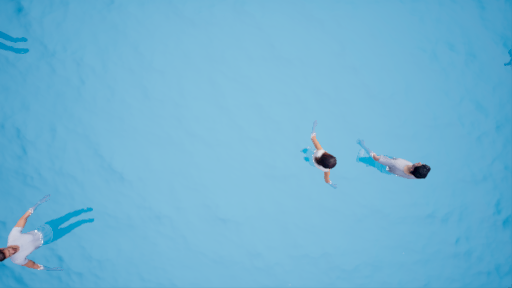person: (1, 203, 98, 274), (354, 134, 435, 188), (303, 119, 339, 190)
